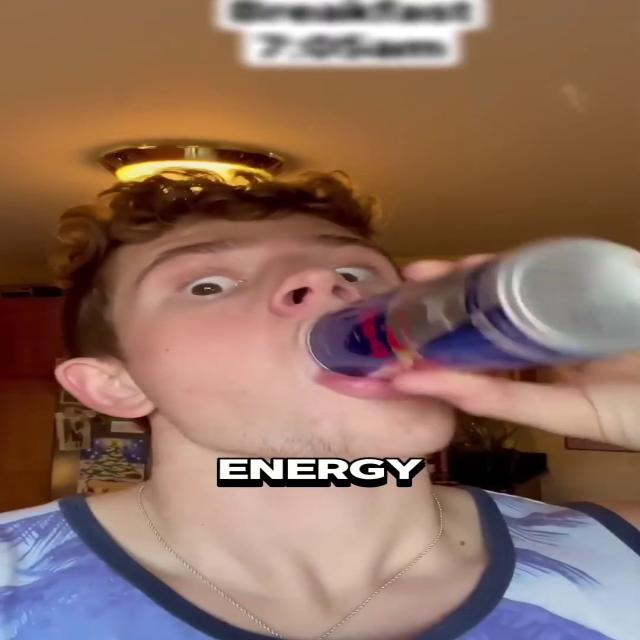Can: (307, 241, 636, 386)
Hand: (379, 252, 640, 455)
Mouth: (299, 354, 471, 406)
